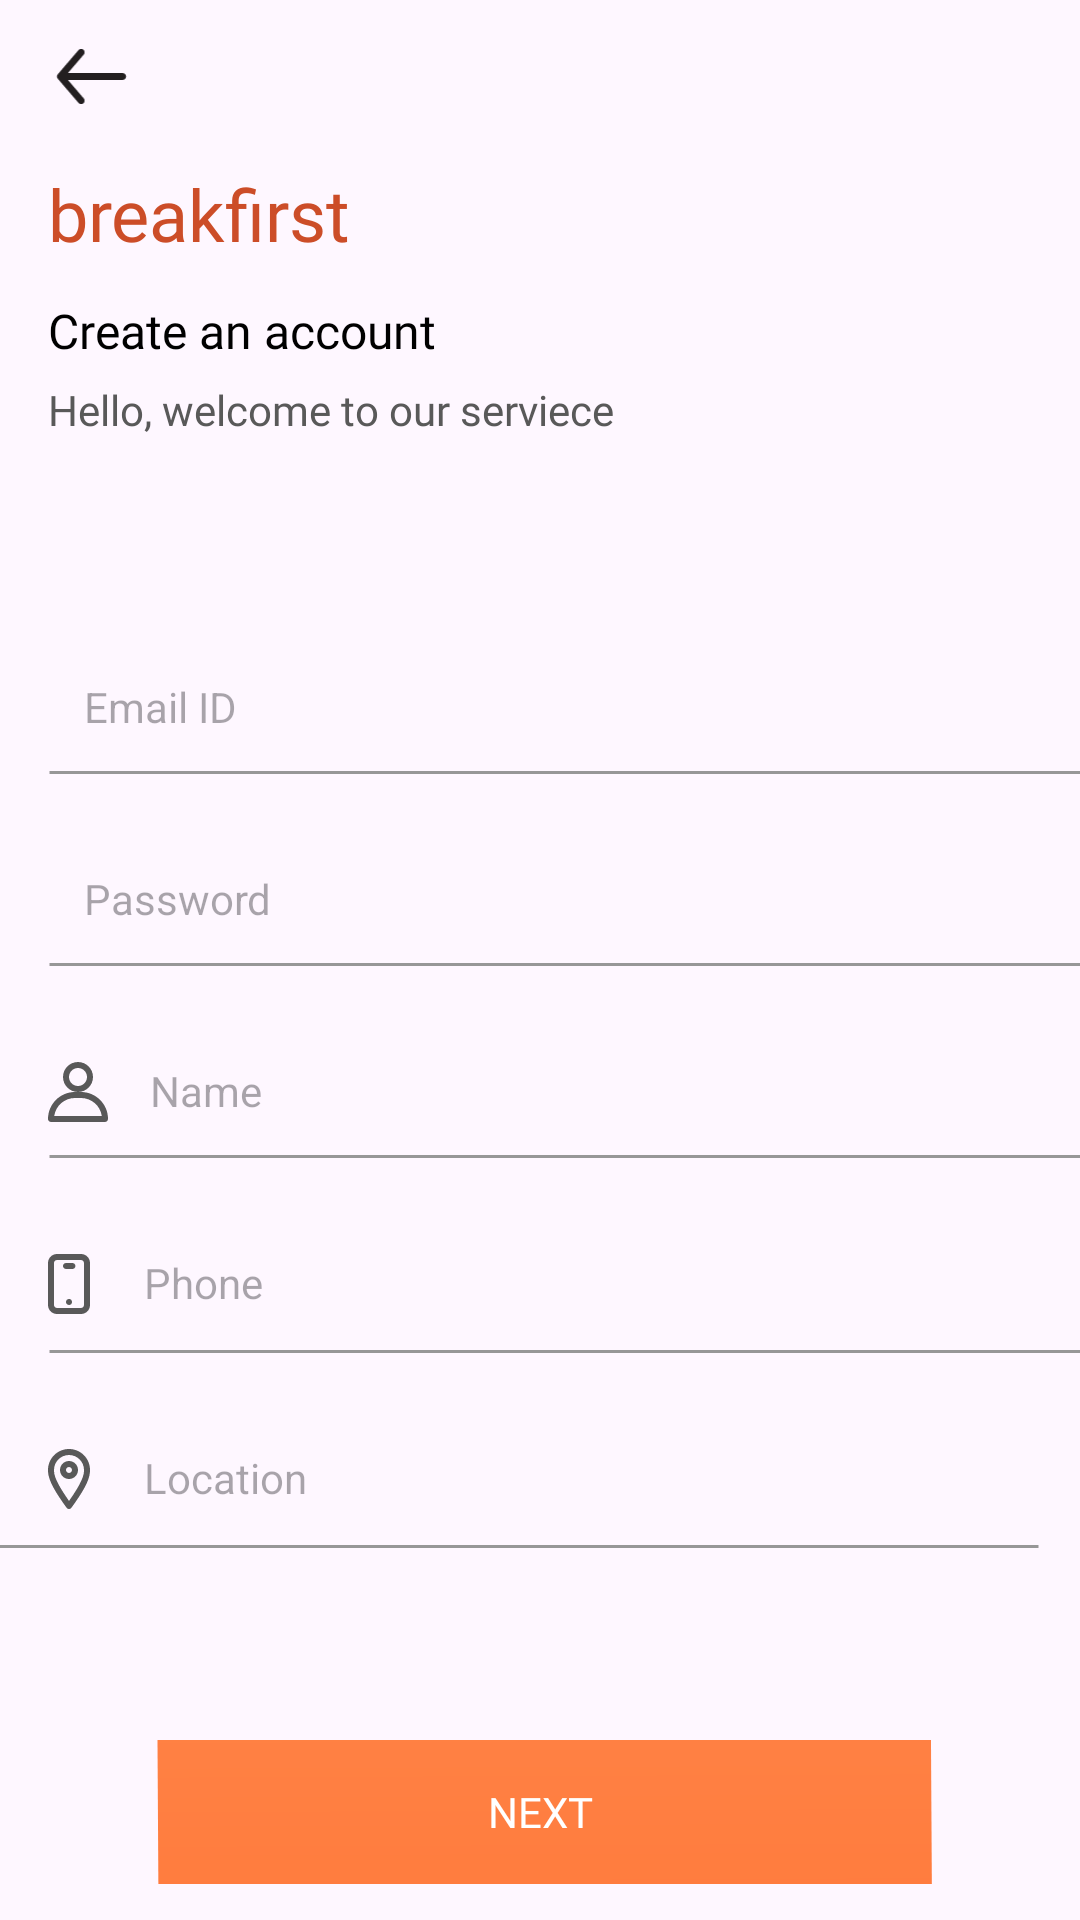

Named icons in this screenshot (1080x1920) and their centers, (x=x, y=y):
left arrow: (x=91, y=76)
